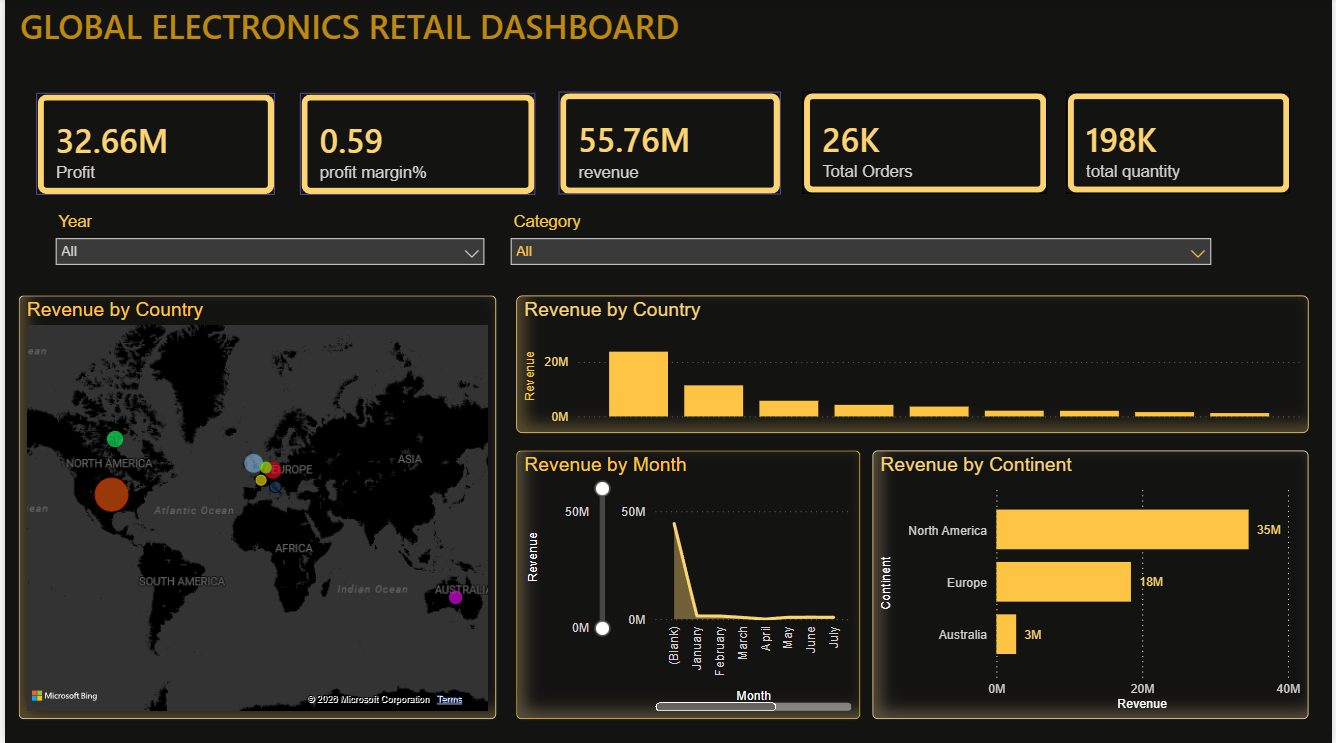

Layout of this report page (visuals, bound fields, positions):
{"tool":"powerbi","page":{"name":"Page 1","canvas":[1280,720],"ordinal":0},"visuals":[{"type":"textbox","box":[9.6,0,650.4,74.1],"z":0},{"type":"cardVisual","fields":{"Data":["Sales.Profit"]},"box":[13.3,74.8,264.2,132.7],"z":1000},{"type":"cardVisual","fields":{"Data":["Sales.profit margin%"]},"box":[267.8,74.8,261.8,132.7],"z":2000},{"type":"cardVisual","fields":{"Data":["Sales.revenue"]},"box":[517.6,73.6,248.5,133.9],"z":3000},{"type":"cardVisual","fields":{"Data":["Sales.Total Orders"]},"box":[752.8,73.6,270.2,132.7],"z":4000},{"type":"cardVisual","fields":{"Data":["Sales.total quantity"]},"box":[1007.4,73.6,250.9,132.7],"z":5000},{"type":"lineChart","fields":{"Y":["Sales.revenue"],"Category":["Sales.Delivery Date.Variation.Date Hierarchy.Month"]},"box":[493.4,436.7,331.8,259.4],"z":6000},{"type":"barChart","title":"Revenue by Continent","fields":{"Y":["Sales.revenue"],"Category":["Customers.Continent"]},"box":[837.3,436.7,421,259.4],"z":7000},{"type":"slicer","fields":{"Values":["Sales.Order Date.Variation.Date Hierarchy.Year"]},"box":[38.6,201.5,434.3,78.4],"z":8000},{"type":"slicer","fields":{"Values":["Products.Category"]},"box":[477.8,201.5,696.1,68.8],"z":9000},{"type":"map","fields":{"Category":["Customers.Country"],"Size":["Sales.revenue"]},"box":[13.3,287.1,460.9,409],"z":10000},{"type":"clusteredColumnChart","fields":{"Y":["Sales.revenue"],"Category":["Stores.Country"]},"box":[493.4,287.1,764.9,132.7],"z":11000}]}

Visuals, with their boxes in screenshot pixels (x1, y1, x2, y2), scaled from the page's 1280x720 canvas onto the 1336x743 screenshot:
textbox: select_region(10, 0, 689, 76)
cardVisual - Sales.Profit: select_region(14, 77, 290, 214)
cardVisual - Sales.profit margin%: select_region(280, 77, 553, 214)
cardVisual - Sales.revenue: select_region(540, 76, 800, 214)
cardVisual - Sales.Total Orders: select_region(786, 76, 1068, 213)
cardVisual - Sales.total quantity: select_region(1051, 76, 1313, 213)
lineChart - Sales.revenue x Sales.Delivery Date.Variation.Date Hierarchy.Month: select_region(515, 451, 861, 718)
"Revenue by Continent" barChart: select_region(874, 451, 1313, 718)
slicer - Sales.Order Date.Variation.Date Hierarchy.Year: select_region(40, 208, 494, 289)
slicer - Products.Category: select_region(499, 208, 1225, 279)
map - Customers.Country x Sales.revenue: select_region(14, 296, 495, 718)
clusteredColumnChart - Sales.revenue x Stores.Country: select_region(515, 296, 1313, 433)
